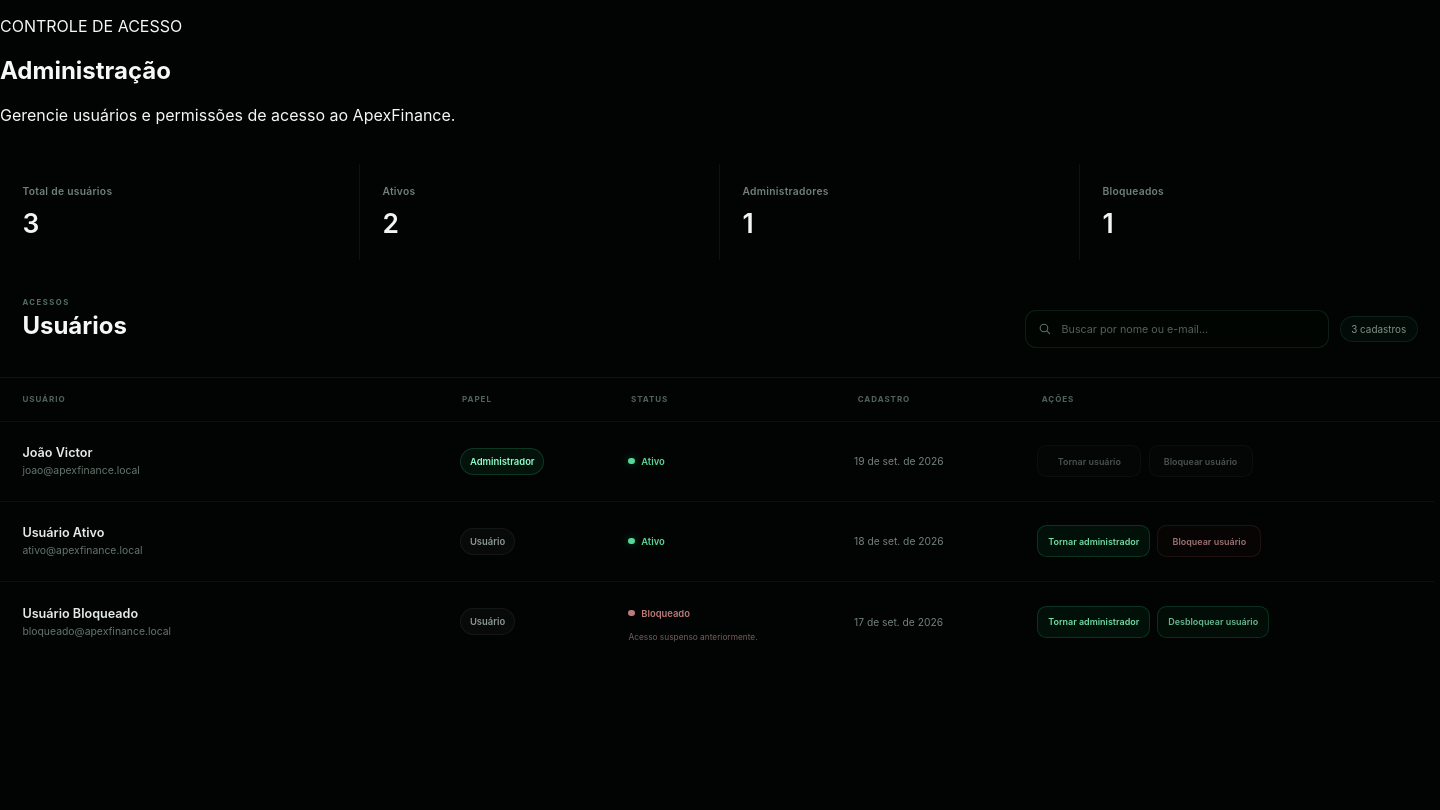
Test case: Gerenciamento de status na Administração › bloqueia o usuário com motivo e atualiza a interface
The image size is (1440, 810).
Expected: the list item "Usuário Ativo" is shown, [22,525,104,540]
Click the button "Bloquear usuário" in the row of "ativo@apexfinance.local" at (1209,541), box [1157,525,1261,557]
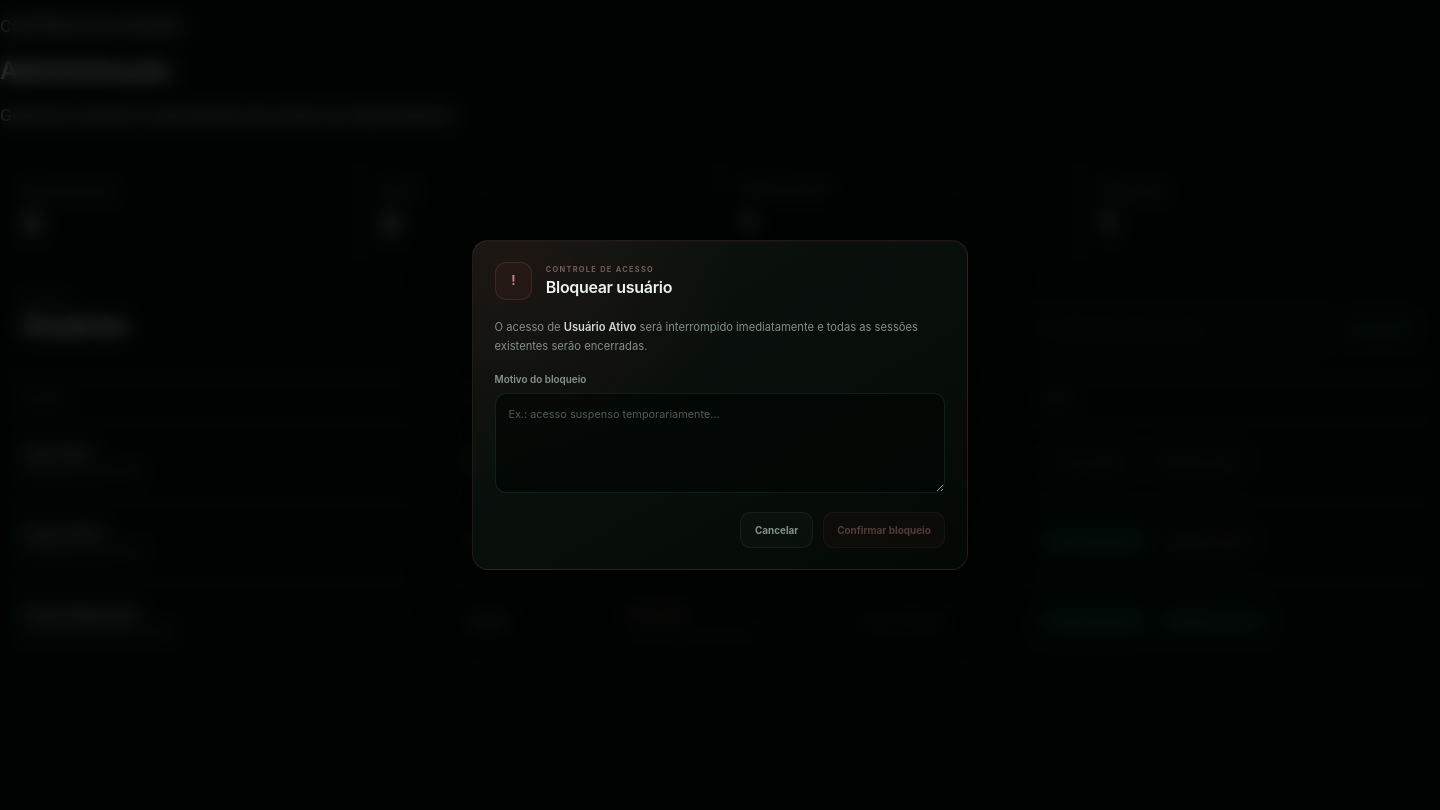
Type "Acesso suspenso pelo administrador." into the text box labelled "Motivo do bloqueio" at (720,443), box [495,394,945,493]
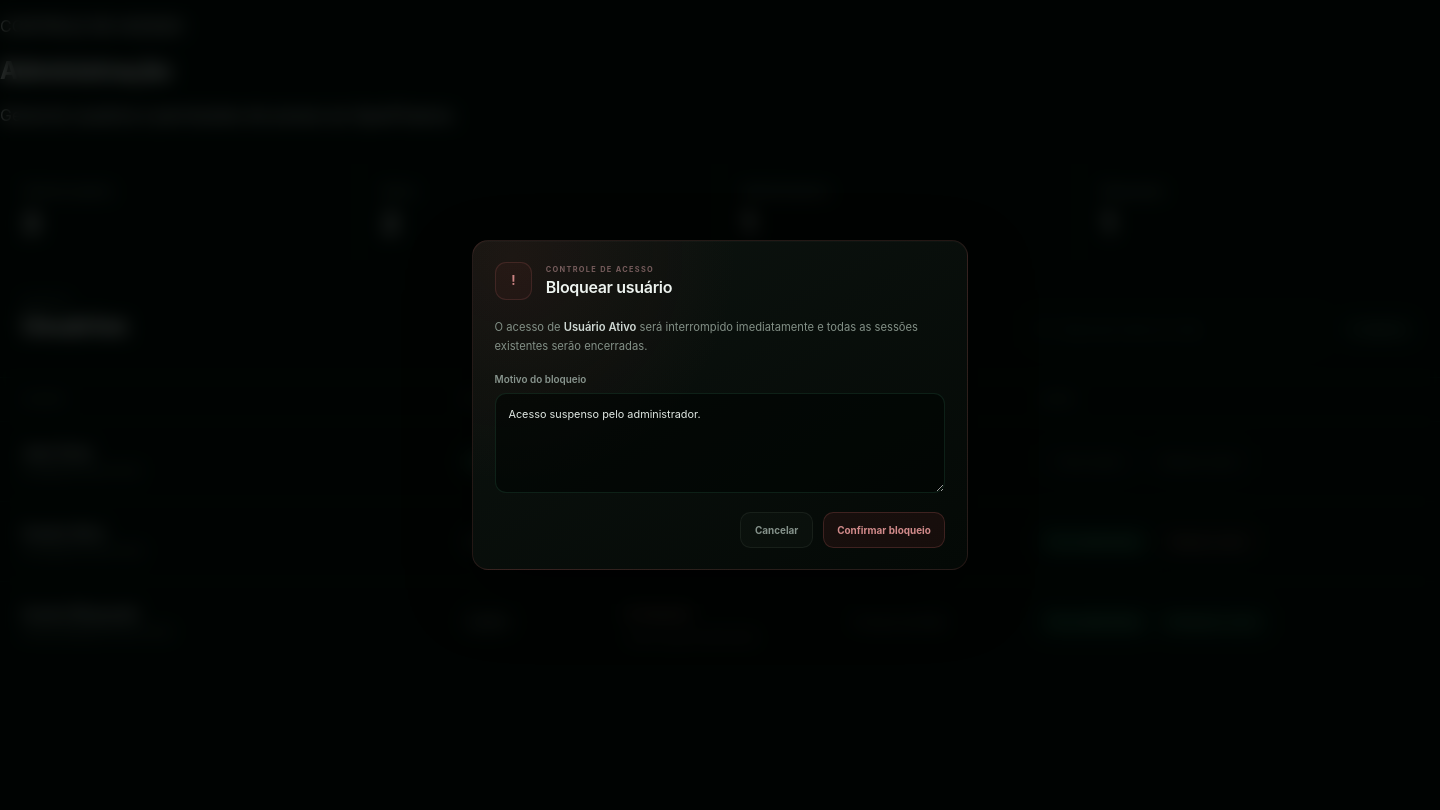
Click the button "Confirmar bloqueio" at (884,530), box [823,512,945,548]
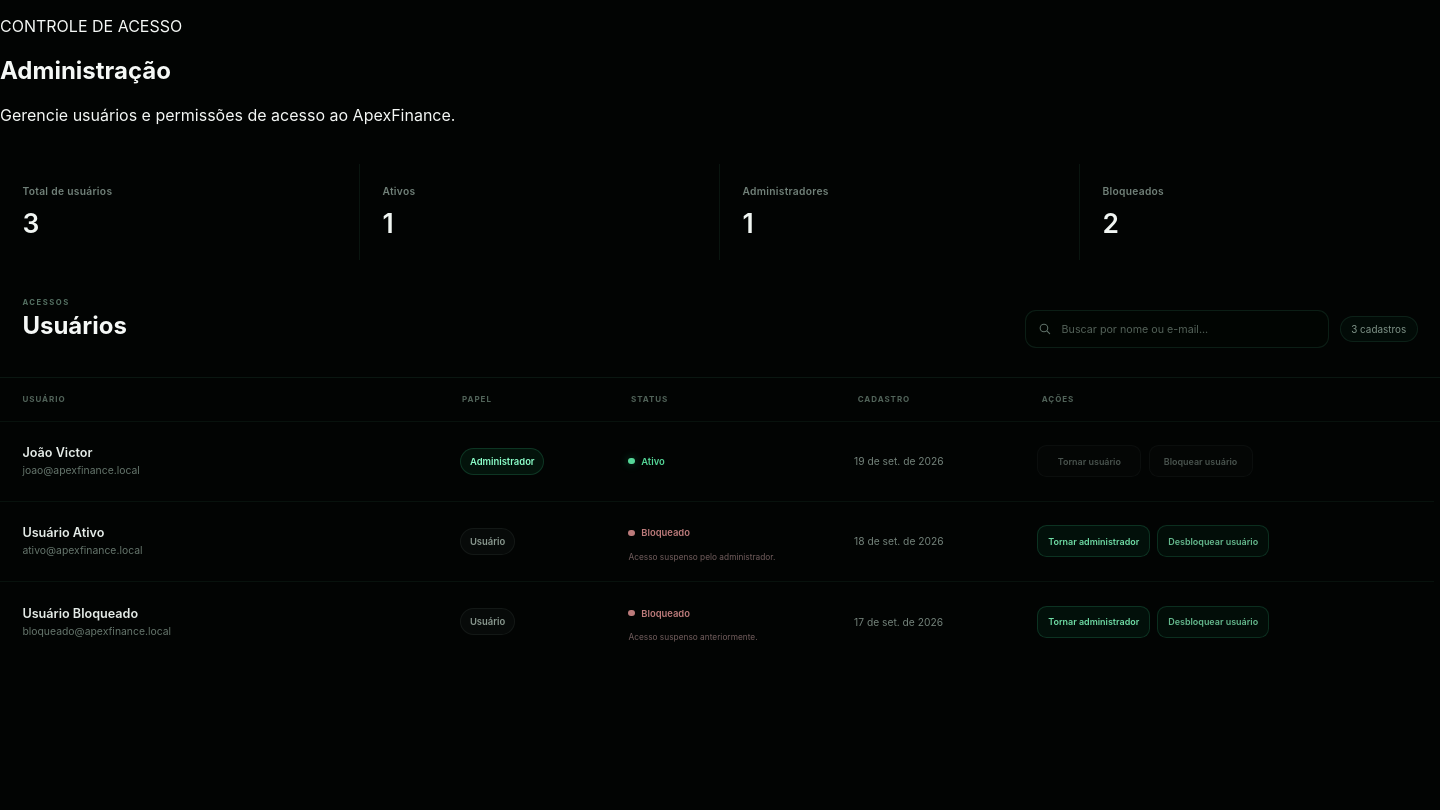
Expected: the text "Bloqueado" in the row of "Usuário Ativo" is shown, [641,527,690,538]
Expected: the dialog is gone
